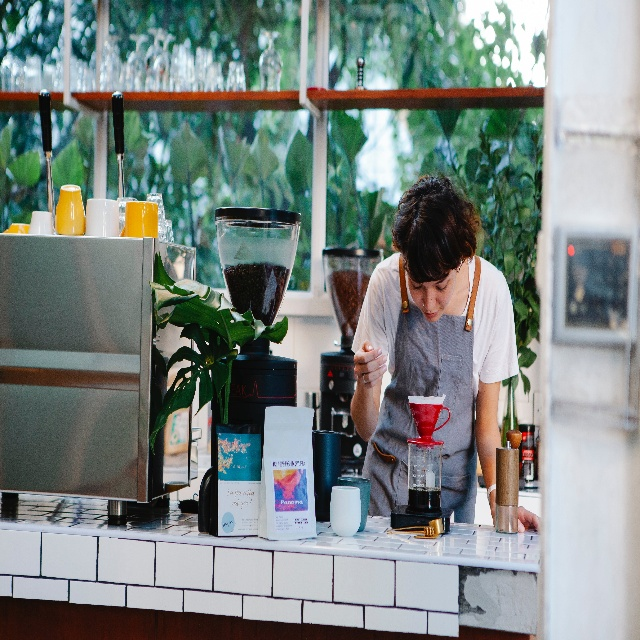Sin_guantes: (353, 339, 387, 389), (518, 505, 541, 533)
